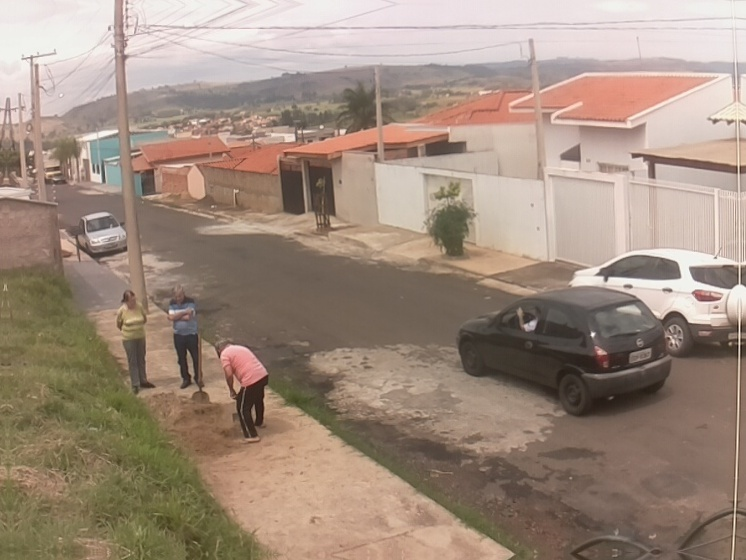person: (215, 337, 272, 444), (113, 288, 158, 395), (166, 284, 206, 390), (515, 302, 546, 335)
